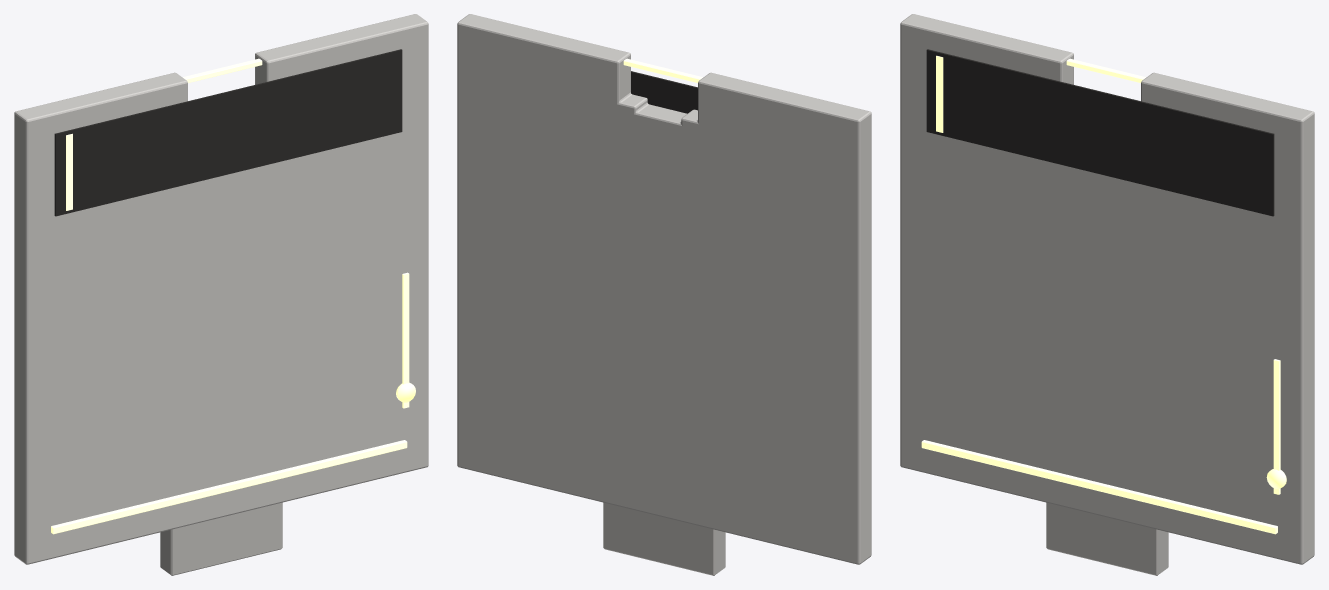
The model's file is server_lcm.glb.
3 renders of one model, left to right at view 1: azimuth 30°, elevation 25°; view 2: azimuth 150°, elevation 25°; view 3: azimuth 330°, elevation 25°, orthographic.
Parts seen in each view (by area): view 1: GEO_Server_Card, GEO_Server_LabelSlot, GEO_Server_Plug, GEO_Server_Strip, GEO_Server_VBar, GEO_Server_Strip_Top, GEO_Server_LabelTick; view 2: GEO_Server_Card, GEO_Server_Plug, GEO_Server_LabelSlot, GEO_Server_Strip_Top; view 3: GEO_Server_Card, GEO_Server_LabelSlot, GEO_Server_Plug, GEO_Server_Strip, GEO_Server_VBar, GEO_Server_Strip_Top, GEO_Server_LabelTick.
Part boxes in pixels (x1,y1,x2,y2): GEO_Server_Card: [14, 14, 428, 564]; GEO_Server_LabelSlot: [54, 49, 402, 216]; GEO_Server_Plug: [160, 502, 282, 575]; GEO_Server_Strip: [51, 440, 407, 534]; GEO_Server_VBar: [402, 272, 409, 408]; GEO_Server_Strip_Top: [183, 58, 262, 82]; GEO_Server_LabelTick: [66, 133, 72, 210]; GEO_Server_Card: [457, 14, 871, 564]; GEO_Server_Plug: [603, 502, 725, 575]; GEO_Server_LabelSlot: [631, 71, 697, 113]; GEO_Server_Strip_Top: [623, 58, 702, 82]; GEO_Server_Card: [900, 14, 1314, 564]; GEO_Server_LabelSlot: [926, 49, 1274, 216]; GEO_Server_Plug: [1046, 502, 1168, 575]; GEO_Server_Strip: [921, 440, 1277, 534]; GEO_Server_VBar: [1273, 359, 1280, 494]; GEO_Server_Strip_Top: [1066, 58, 1145, 82]; GEO_Server_LabelTick: [936, 55, 943, 132].
Size of the model in its own units: 0.36 by 0.42 by 0.0238.
